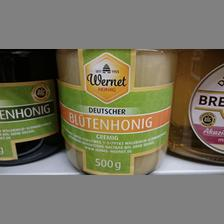Honig: (56, 48, 178, 176)
